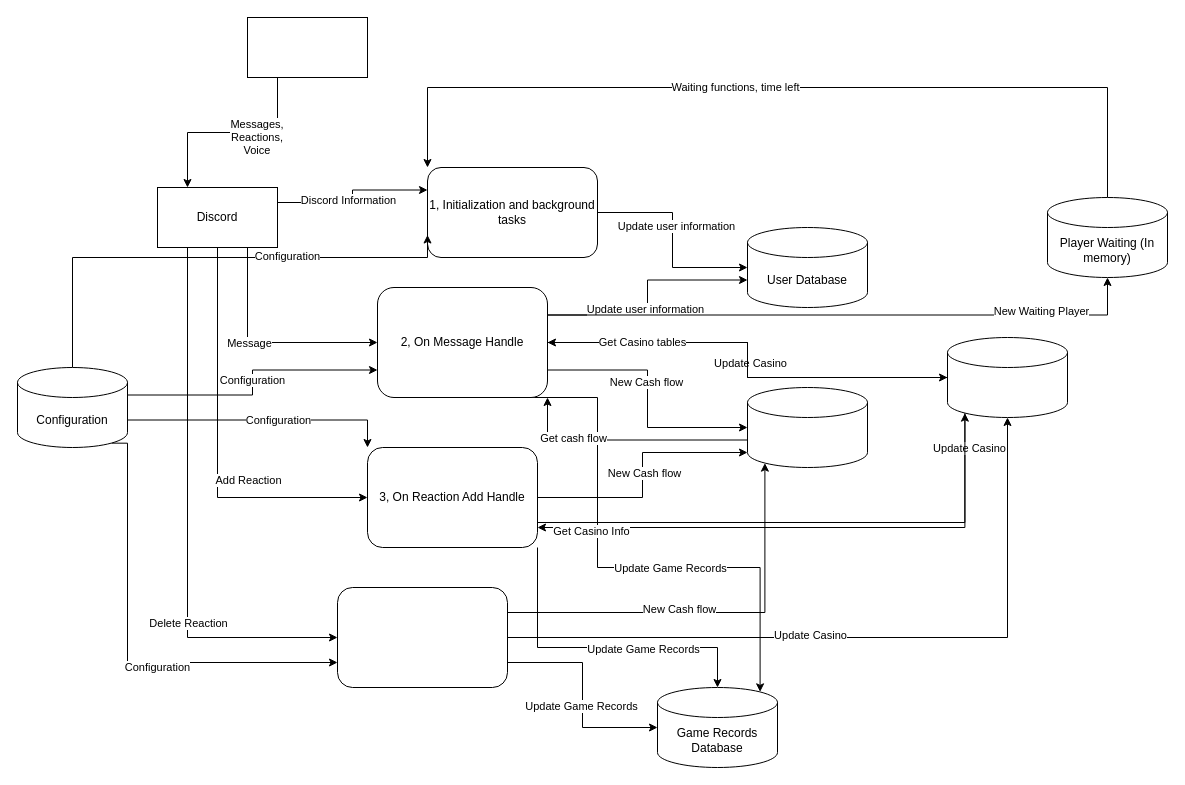
Image size: 1185x785. Some labels were removed from this diagram. The shapes that lost their labels are listed below. From the top down, each one's box as (x1, y1, x2, y2) in pixels, then its label:
(246, 16, 368, 78): User
(946, 336, 1068, 418): Casino (In memory)
(746, 386, 868, 468): Cash Flow Database
(336, 586, 508, 688): 4, On Reaction Delete Handle
